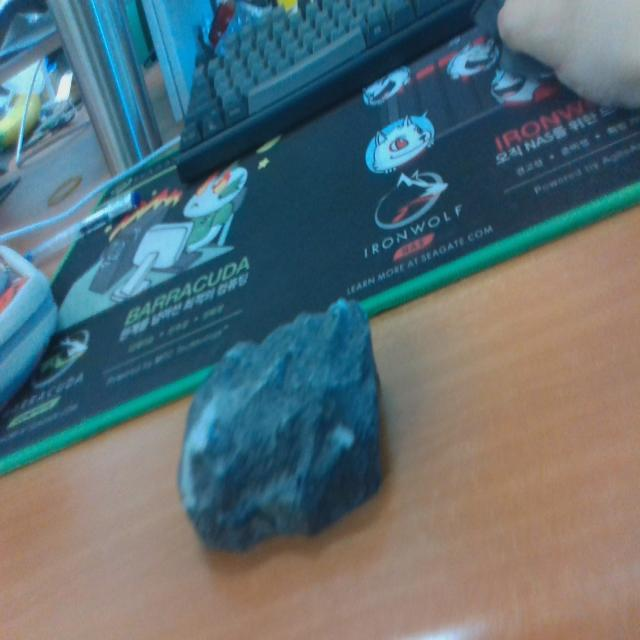stone: (175, 295, 386, 560)
